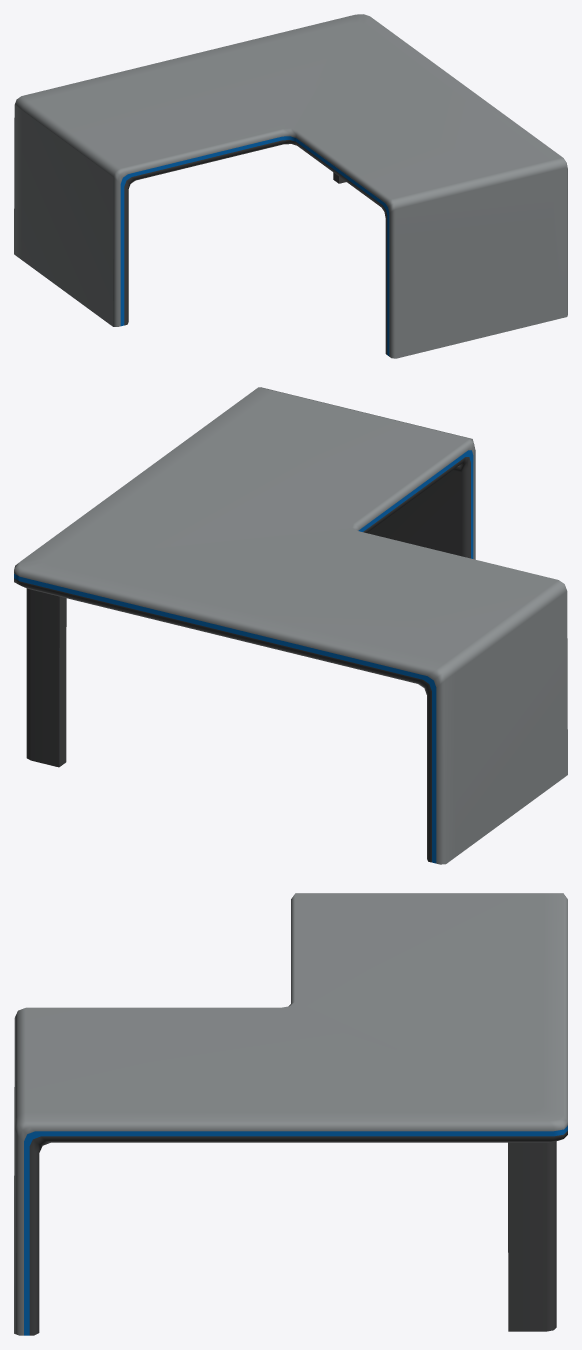
The model's file is Table_002.fbx.
3 views of the same model, one above another, from view 1: azimuth 30°, elevation 25°; view 2: azimuth 150°, elevation 25°; view 3: azimuth 270°, elevation 25° (orthographic). The views are drawn at different scales.
Visible parts, largest first — view 1: Table_002; view 2: Table_002; view 3: Table_002.
Boxes of the visible parts, x1,y1,x2,y2 form: Table_002: [14, 14, 567, 358]; Table_002: [14, 387, 567, 864]; Table_002: [14, 893, 567, 1335].
Bounding box in the file's own units: 200 × 200 × 85.21.
